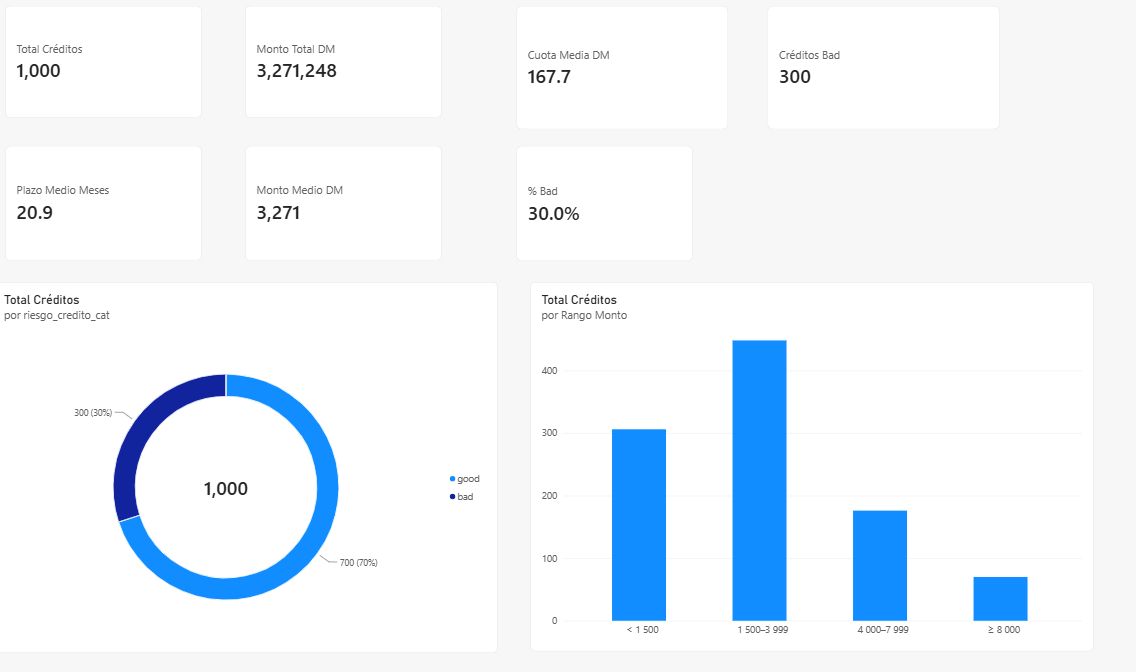

Layout of this report page (visuals, bound fields, positions):
{"tool":"powerbi","page":{"name":"Página 1: Panorama de la cartera","canvas":[1920,1080],"ordinal":0},"visuals":[{"type":"cardVisual","fields":{"Data":["dm_riesgo_crediticio.Total Créditos"]},"box":[51.5,71.8,290.8,165.6],"z":0},{"type":"cardVisual","fields":{"Data":["dm_riesgo_crediticio.Plazo Medio Meses"]},"box":[51.5,277.9,290.8,169.3],"z":1000},{"type":"cardVisual","fields":{"Data":["dm_riesgo_crediticio.Monto Total DM"]},"box":[404.9,71.8,290.8,165.6],"z":2000},{"type":"cardVisual","fields":{"Data":["dm_riesgo_crediticio.Monto Medio DM"]},"box":[404.9,277.9,290.8,169.3],"z":3000},{"type":"cardVisual","fields":{"Data":["dm_riesgo_crediticio.Cuota Media DM"]},"box":[804.3,71.8,312.9,182.2],"z":4000},{"type":"cardVisual","fields":{"Data":["dm_riesgo_crediticio.Créditos Bad"]},"box":[1174.2,71.8,342.3,182.2],"z":5000},{"type":"cardVisual","fields":{"Data":["dm_riesgo_crediticio.% Bad"]},"box":[804,278,260,170],"z":6000},{"type":"donutChart","fields":{"Category":["dm_riesgo_crediticio.riesgo_credito_cat"],"Y":["dm_riesgo_crediticio.Total Créditos"]},"box":[34,478,744,546],"z":7000},{"type":"clusteredColumnChart","fields":{"Category":["dm_riesgo_crediticio.Rango Monto"],"Y":["dm_riesgo_crediticio.Total Créditos"]},"box":[824,478,830,544],"z":8000}]}

Visuals, with their boxes on the page's 1920x1080 design canvas (x1, y1, x2, y2). These are canvas units, not pixel positions in the 1136x672 screenshot, which may show the page scaled, cropped or inside an application window:
cardVisual - dm_riesgo_crediticio.Total Créditos: <box>52,72,342,237</box>
cardVisual - dm_riesgo_crediticio.Plazo Medio Meses: <box>52,278,342,447</box>
cardVisual - dm_riesgo_crediticio.Monto Total DM: <box>405,72,696,237</box>
cardVisual - dm_riesgo_crediticio.Monto Medio DM: <box>405,278,696,447</box>
cardVisual - dm_riesgo_crediticio.Cuota Media DM: <box>804,72,1117,254</box>
cardVisual - dm_riesgo_crediticio.Créditos Bad: <box>1174,72,1516,254</box>
cardVisual - dm_riesgo_crediticio.% Bad: <box>804,278,1064,448</box>
donutChart - dm_riesgo_crediticio.riesgo_credito_cat x dm_riesgo_crediticio.Total Créditos: <box>34,478,778,1024</box>
clusteredColumnChart - dm_riesgo_crediticio.Rango Monto x dm_riesgo_crediticio.Total Créditos: <box>824,478,1654,1022</box>
